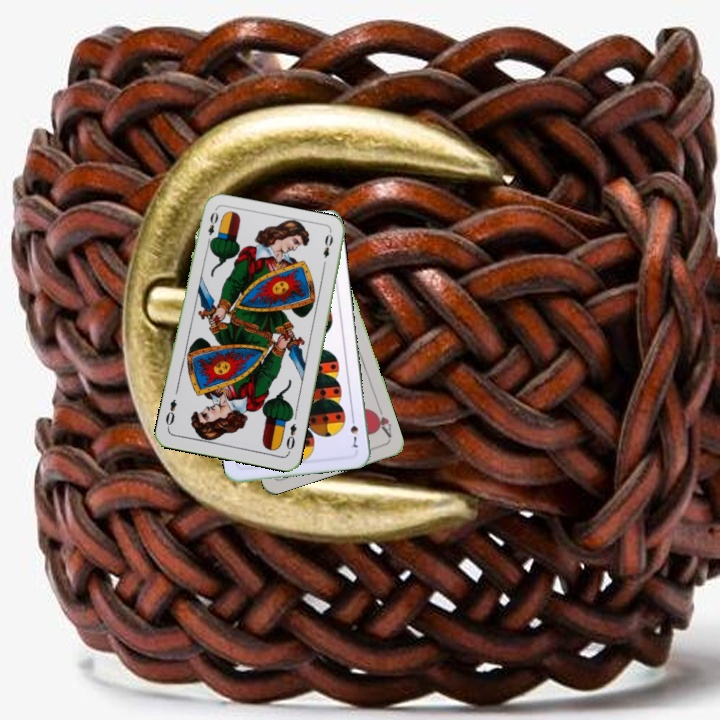EO: (203, 208, 221, 247), (282, 419, 299, 455)
HA: (369, 401, 394, 440)
S7: (346, 412, 361, 450)
